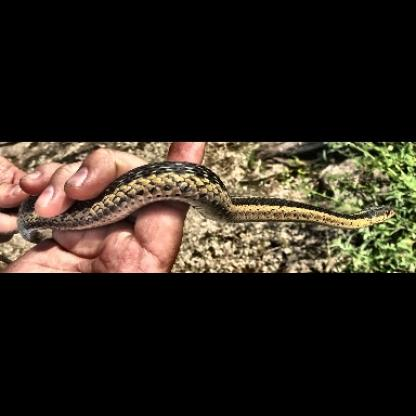Snake: (9, 156, 398, 244)
